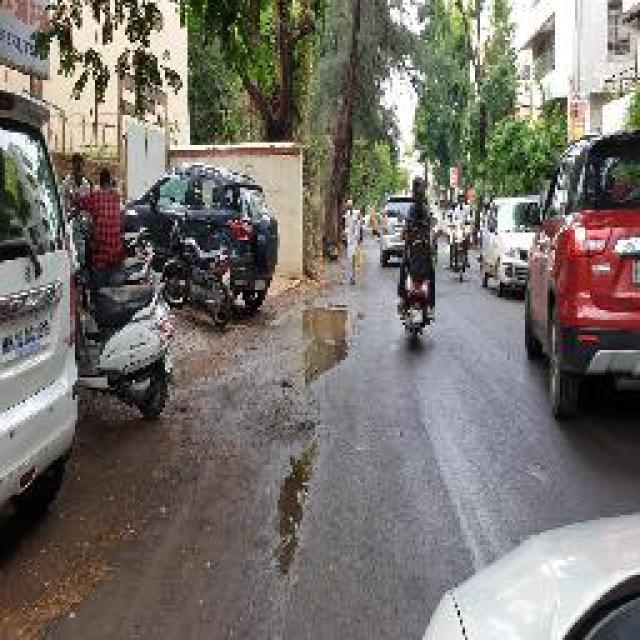stagnation: (264, 412, 325, 580), (293, 297, 372, 387)
